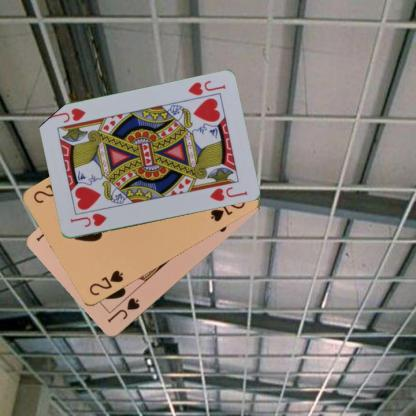2s: (86, 268, 125, 298)
Jh: (185, 78, 226, 97), (68, 211, 108, 229)
Js: (104, 295, 142, 325)
